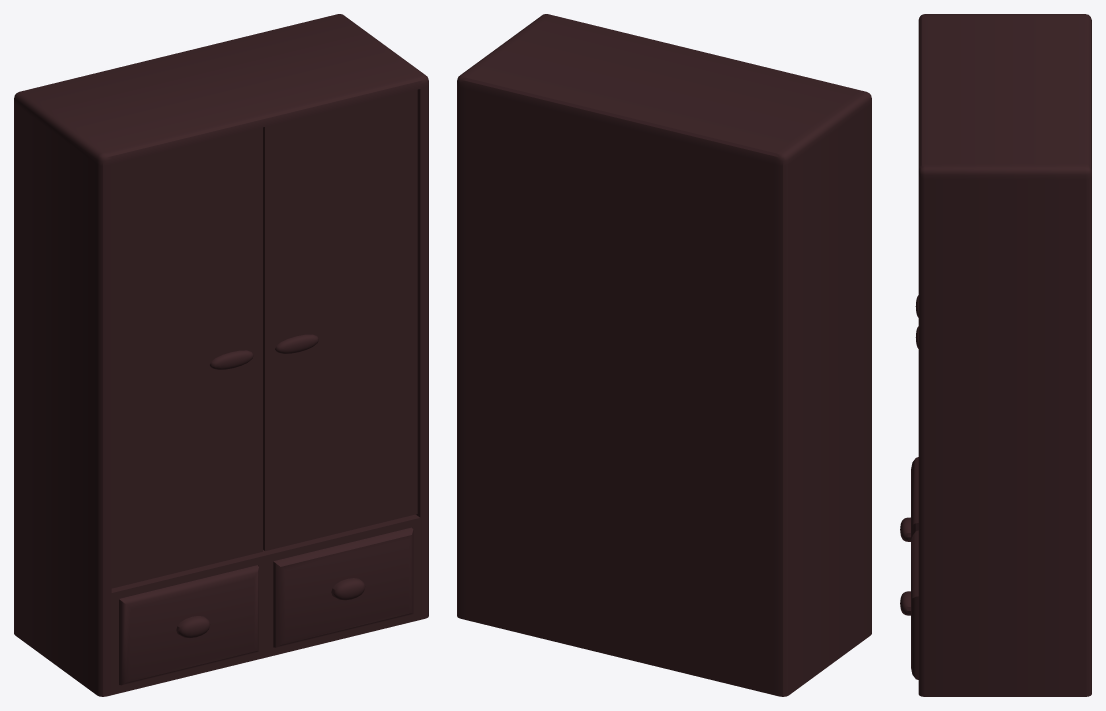
The model's file is Cabinet.fbx.
3 renders of one model, left to right at view 1: azimuth 30°, elevation 25°; view 2: azimuth 150°, elevation 25°; view 3: azimuth 270°, elevation 25°, orthographic. The views are drawn at different scales.
Visible parts, largest first — view 1: Cabinet, CabinetDoor_R, CabinetDoor_L; view 2: Cabinet; view 3: Cabinet.
Boxes of the visible parts, x1,y1,x2,y2 form: Cabinet: [14, 14, 428, 696]; CabinetDoor_R: [263, 89, 417, 550]; CabinetDoor_L: [111, 127, 262, 588]; Cabinet: [457, 14, 871, 696]; Cabinet: [900, 14, 1091, 696].
Size of the model in its own units: 1.2 by 1.88 by 0.6203.
